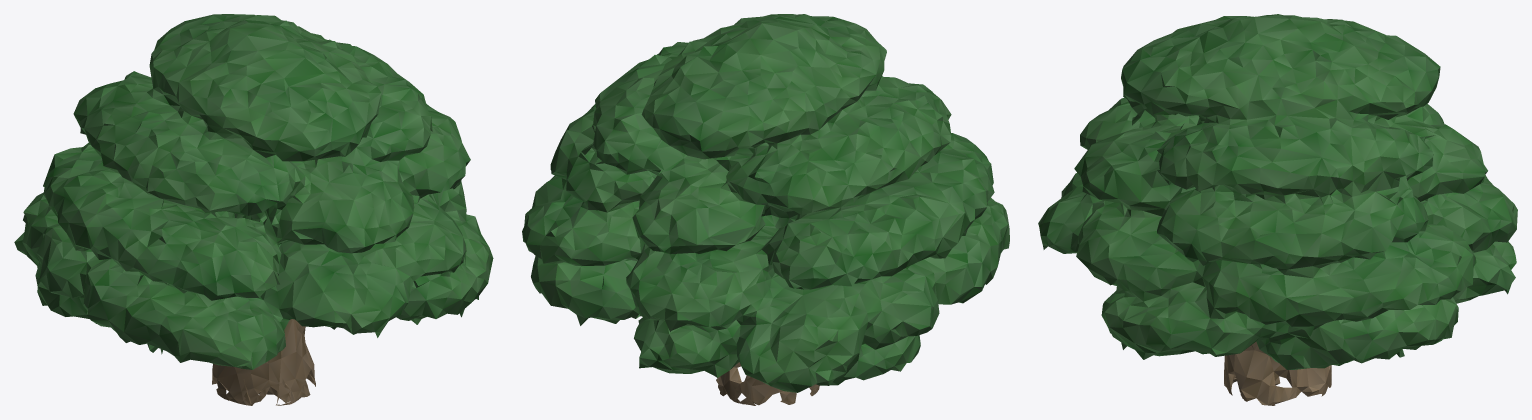
The model's file is yew_tree.glb.
3 views of the same model, side by side, from view 1: azimuth 30°, elevation 25°; view 2: azimuth 150°, elevation 25°; view 3: azimuth 270°, elevation 25° (orthographic). The views are drawn at different scales.
Visible parts, largest first — view 1: world; view 2: world; view 3: world.
Part boxes in pixels (bbox=[...]): world: bbox=[14, 14, 493, 405]; world: bbox=[522, 14, 1009, 405]; world: bbox=[1038, 14, 1517, 405].
Size of the model in its own units: 5.6 by 4.8 by 5.8.
